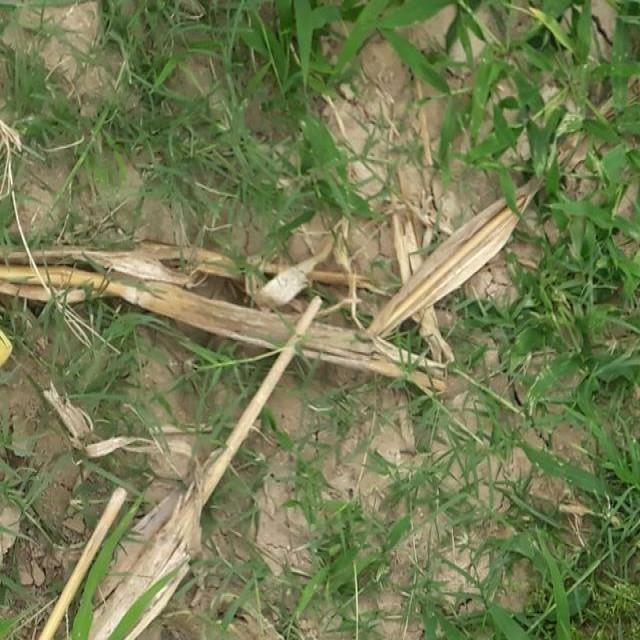weed: (537, 25, 640, 590), (95, 13, 268, 189), (292, 482, 388, 628), (285, 0, 448, 83)
